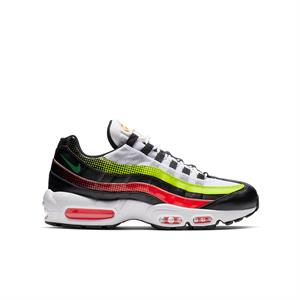nike: (61, 153, 84, 177)
